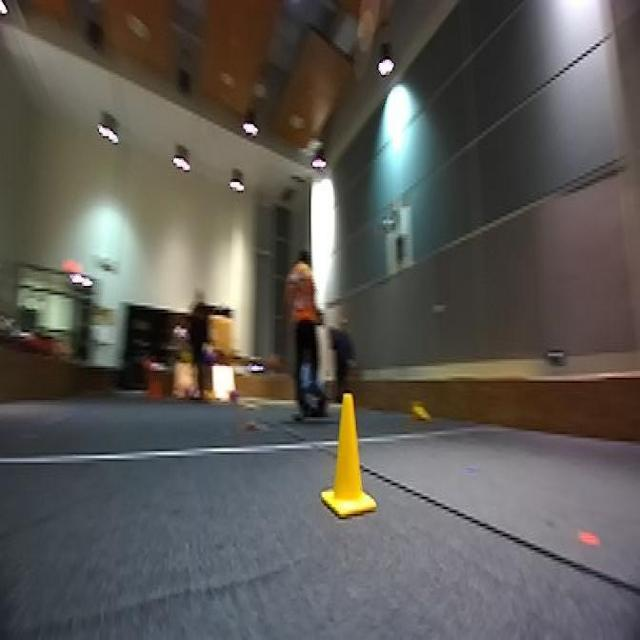frc_cone: (320, 386, 377, 516), (405, 397, 438, 427)
